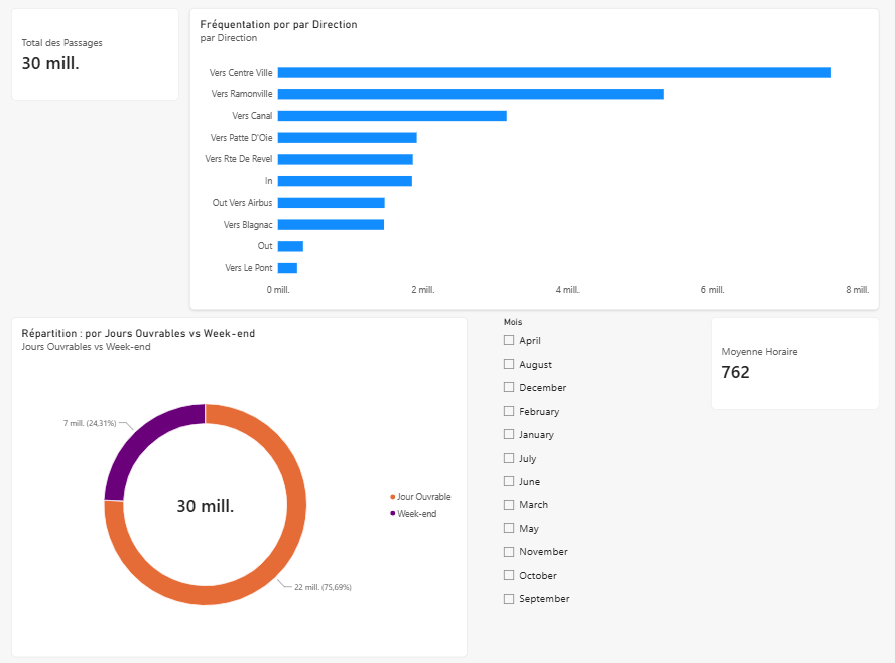

Layout of this report page (visuals, bound fields, positions):
{"tool":"powerbi","page":{"name":"Página 1","canvas":[1920,1080],"ordinal":0},"visuals":[{"type":"cardVisual","fields":{"Data":["Sum(fact_comptages.conteo)"]},"box":[25.9,17.8,270.4,150.6],"z":0},{"type":"clusteredBarChart","fields":{"Category":["dim_sensores.nombre_direccion"],"Y":["Sum(fact_comptages.conteo)"]},"box":[313.2,18,1108.4,488.6],"z":1000},{"type":"donutChart","fields":{"Category":["dim_tiempo.es_fin_de_semana"],"Y":["Sum(fact_comptages.conteo)"]},"box":[26.2,518.1,732.9,550.9],"z":2000},{"type":"cardVisual","fields":{"Data":["Avg(fact_comptages.conteo)"]},"box":[1149.4,518,272,150.6],"z":3000},{"type":"slicer","fields":{"Values":["dim_tiempo.nombre_mes"]},"box":[810,518.1,300.1,550.9],"z":4000}]}

Visuals, with their boxes on the page's 1920x1080 design canvas (x1, y1, x2, y2). These are canvas units, not pixel positions in the 895x663 screenshot, which may show the page scaled, cropped or inside an application window:
cardVisual - Sum(fact_comptages.conteo): box(26, 18, 296, 168)
clusteredBarChart - dim_sensores.nombre_direccion x Sum(fact_comptages.conteo): box(313, 18, 1422, 507)
donutChart - dim_tiempo.es_fin_de_semana x Sum(fact_comptages.conteo): box(26, 518, 759, 1069)
cardVisual - Avg(fact_comptages.conteo): box(1149, 518, 1421, 669)
slicer - dim_tiempo.nombre_mes: box(810, 518, 1110, 1069)
